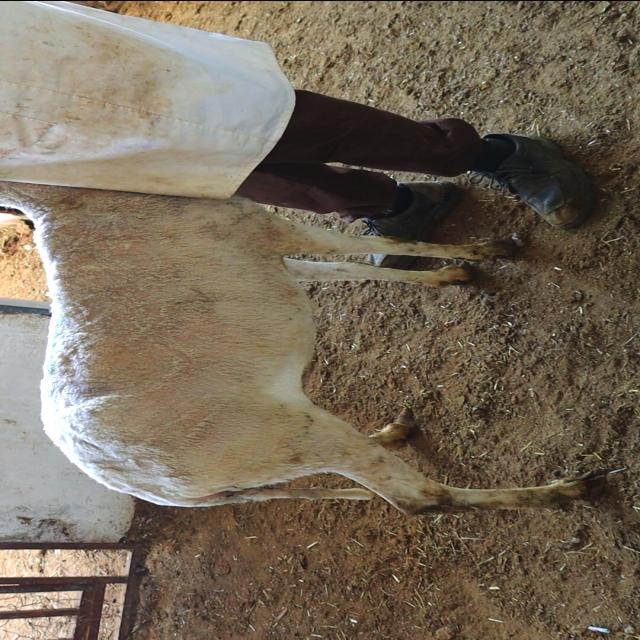Score_3: (0, 180, 588, 513)
